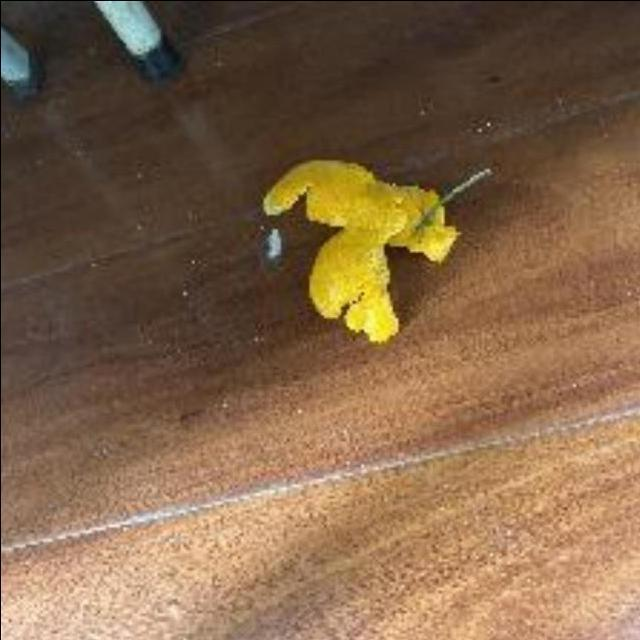orange peel: (249, 158, 452, 344)
